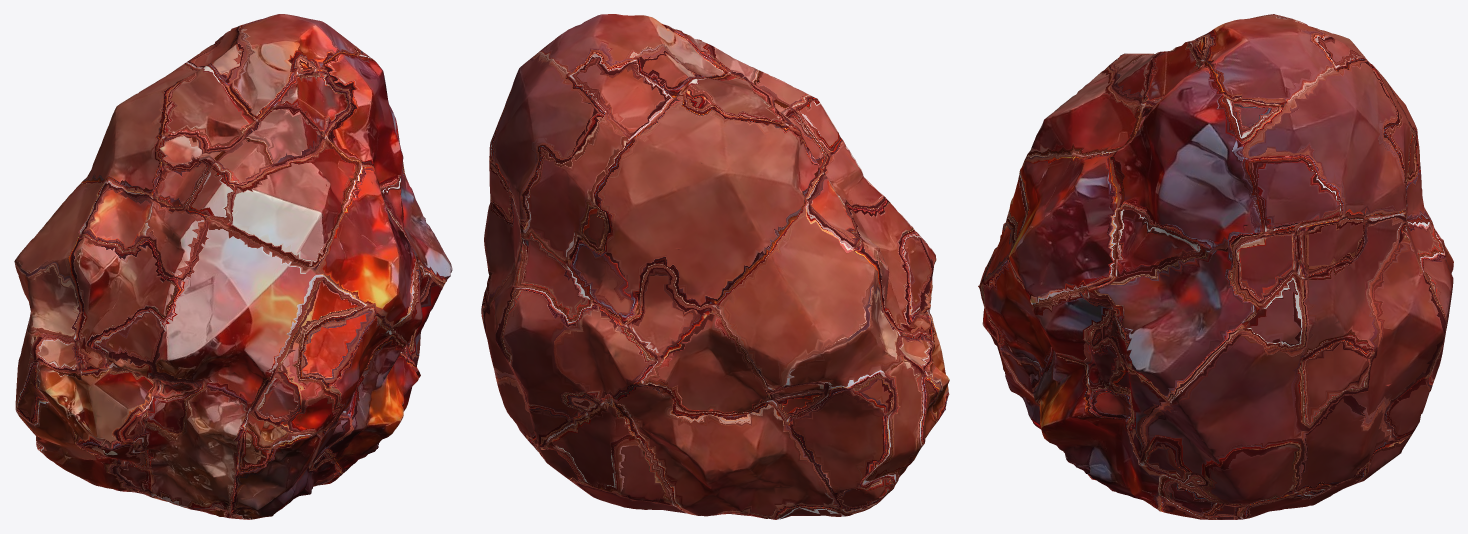
Rendered from stone_fire.glb.
The picture shows the model from 3 angles, left to right: view 1: azimuth 30°, elevation 25°; view 2: azimuth 150°, elevation 25°; view 3: azimuth 270°, elevation 25°; orthographic projection. The views are drawn at different scales.
Size of the model in its own units: 0.9763 by 0.9471 by 0.8698.
Materials: 1 (1 with a texture image).
